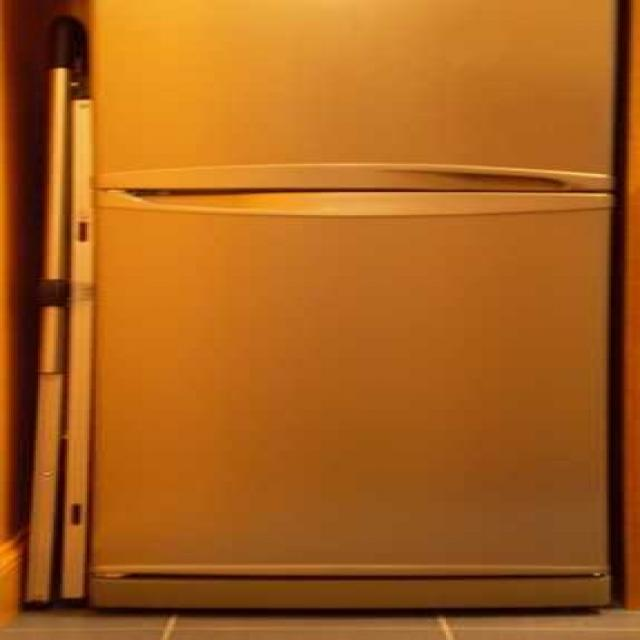refrigerator: (88, 0, 620, 613)
